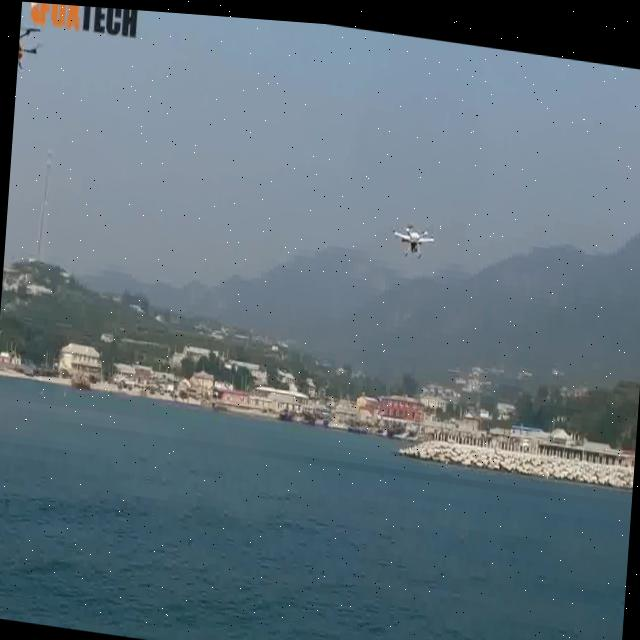drone: (386, 206, 449, 267)
